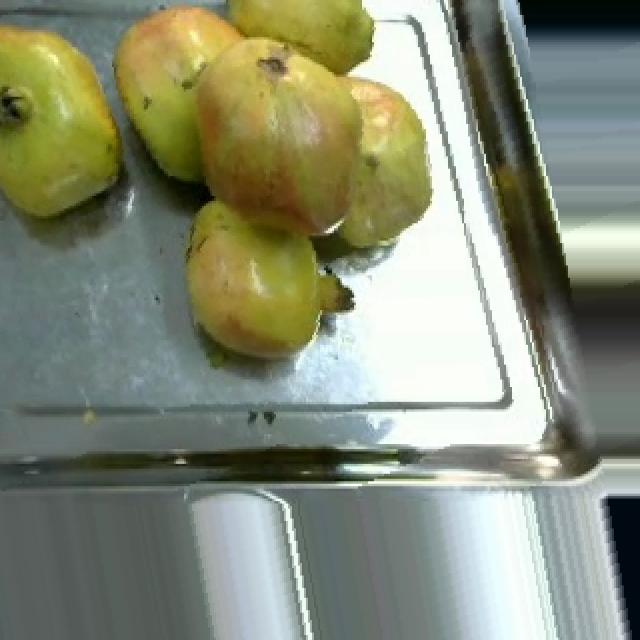fruit: (206, 35, 448, 268), (166, 201, 366, 377), (0, 2, 142, 236)
